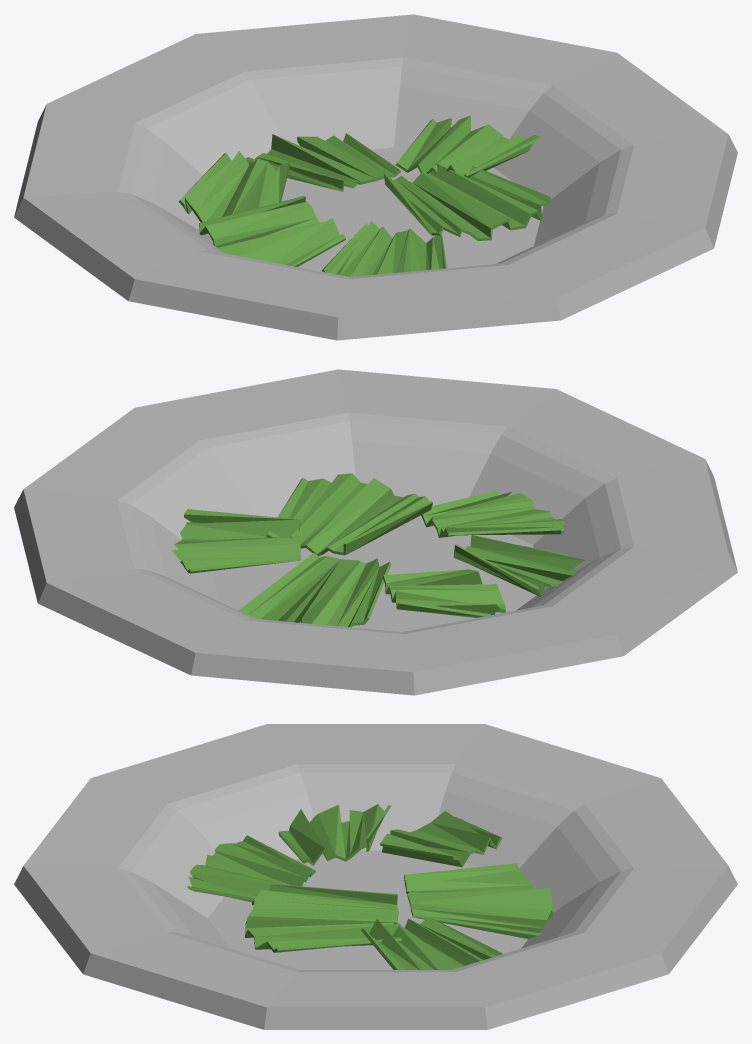
File: salad.glb
3 renders of one model, top to bottom at view 1: azimuth 30°, elevation 25°; view 2: azimuth 150°, elevation 25°; view 3: azimuth 270°, elevation 25°, orthographic. The views are drawn at different scales.
Visible parts, largest first — view 1: Plate2, Lettuce; view 2: Plate2, Lettuce; view 3: Plate2, Lettuce.
Part boxes in pixels (x1,y1,x2,y2): Plate2: [14, 14, 737, 340]; Lettuce: [179, 115, 551, 276]; Plate2: [14, 369, 737, 695]; Lettuce: [172, 473, 584, 627]; Plate2: [14, 724, 737, 1029]; Lettuce: [187, 804, 553, 969].
Size of the model in its own units: 1.97 by 0.2197 by 2.07.
